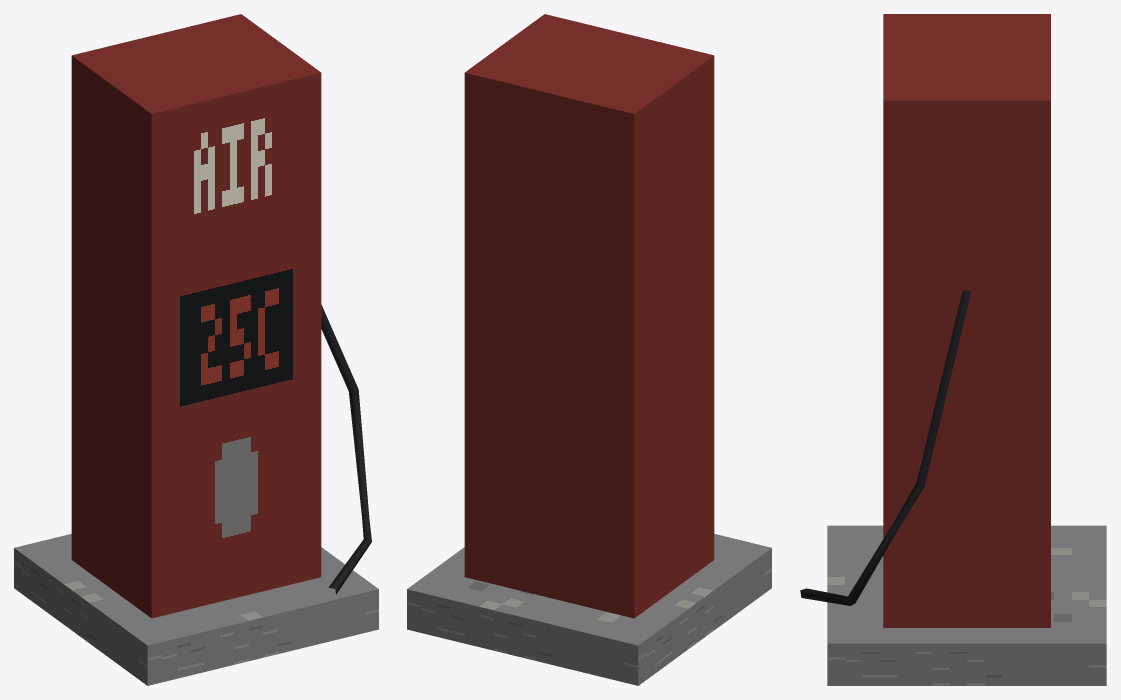
File: COM_AirPump.glb
3 views of the same model, side by side, from view 1: azimuth 30°, elevation 25°; view 2: azimuth 150°, elevation 25°; view 3: azimuth 270°, elevation 25° (orthographic). The views are drawn at different scales.
Visible parts, largest first — view 1: COM_AirPump_Mesh; view 2: COM_AirPump_Mesh; view 3: COM_AirPump_Mesh.
Boxes of the visible parts, x1,y1,x2,y2 form: COM_AirPump_Mesh: (14, 14, 378, 685); COM_AirPump_Mesh: (407, 14, 771, 685); COM_AirPump_Mesh: (800, 14, 1106, 685).
Size of what is drawn, in the model's own units: 0.6584 by 1.35 by 0.6583.
Materials: 1 (1 with a texture image).
